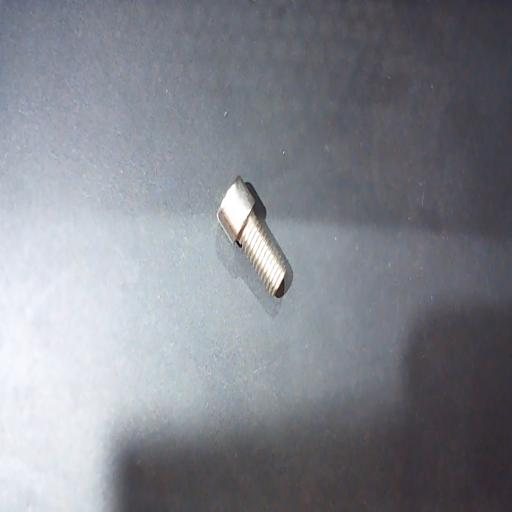screw: (216, 175, 287, 297)
